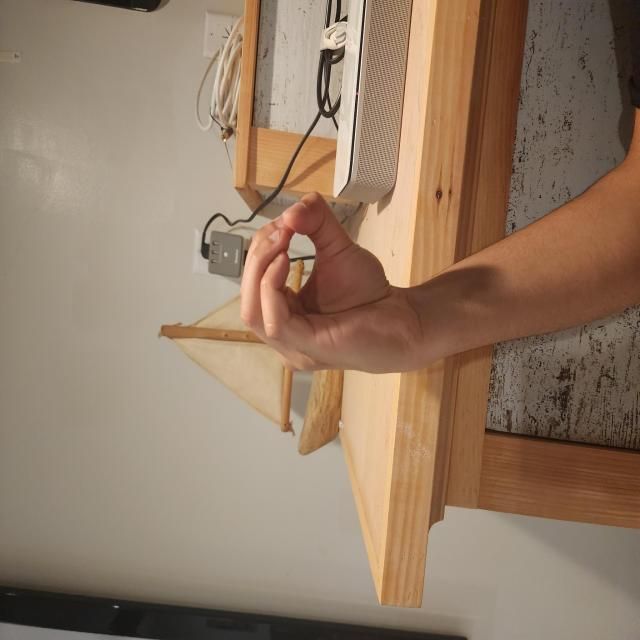O: (194, 312, 341, 574)
